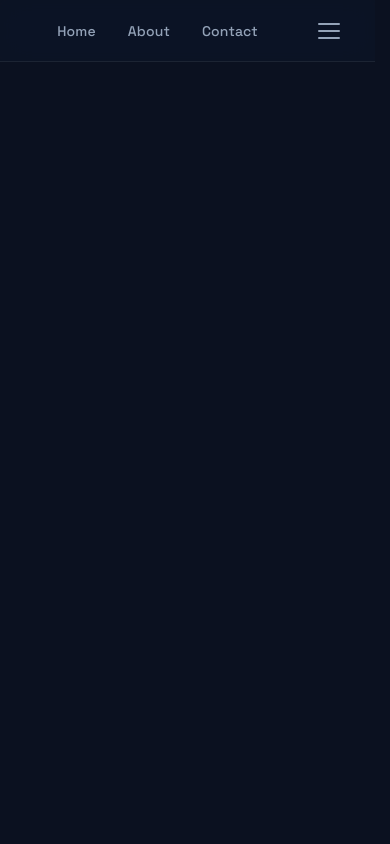
Test case: Nav › panel close button closes the panel
Step 1. Click the button named "Open navigation menu" → (329,30), box [307, 8, 351, 52]
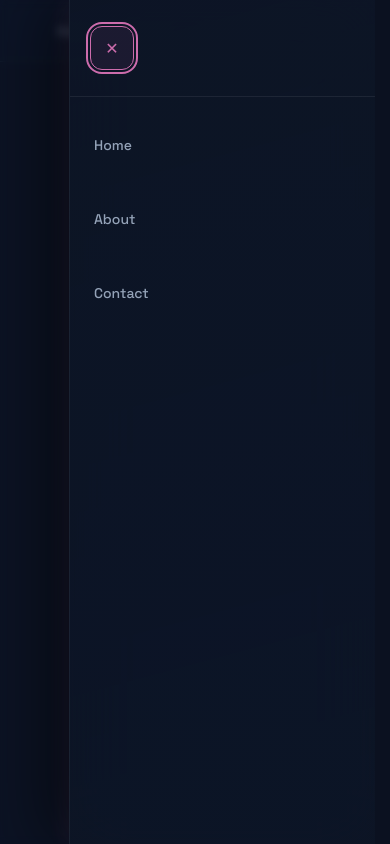
Result: the dialog is shown
Note: Click the panel's own close button (last in DOM order)
Step 2. Click the button named "Close navigation menu" → (112,48), box [90, 26, 134, 70]
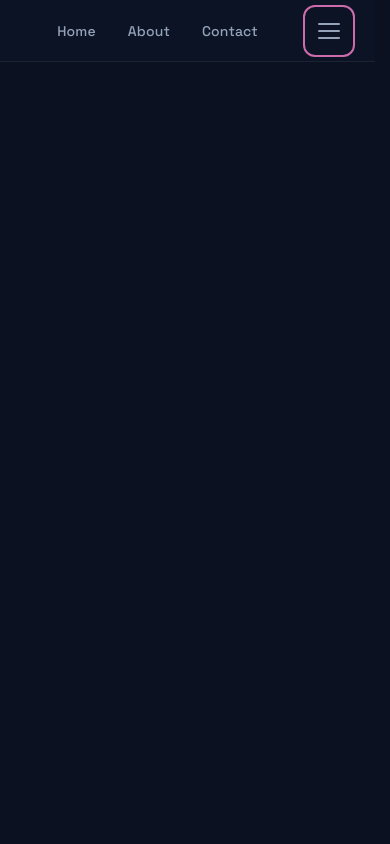
Result: the dialog is gone
